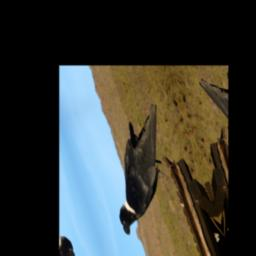Crow: (90, 102, 190, 239)
